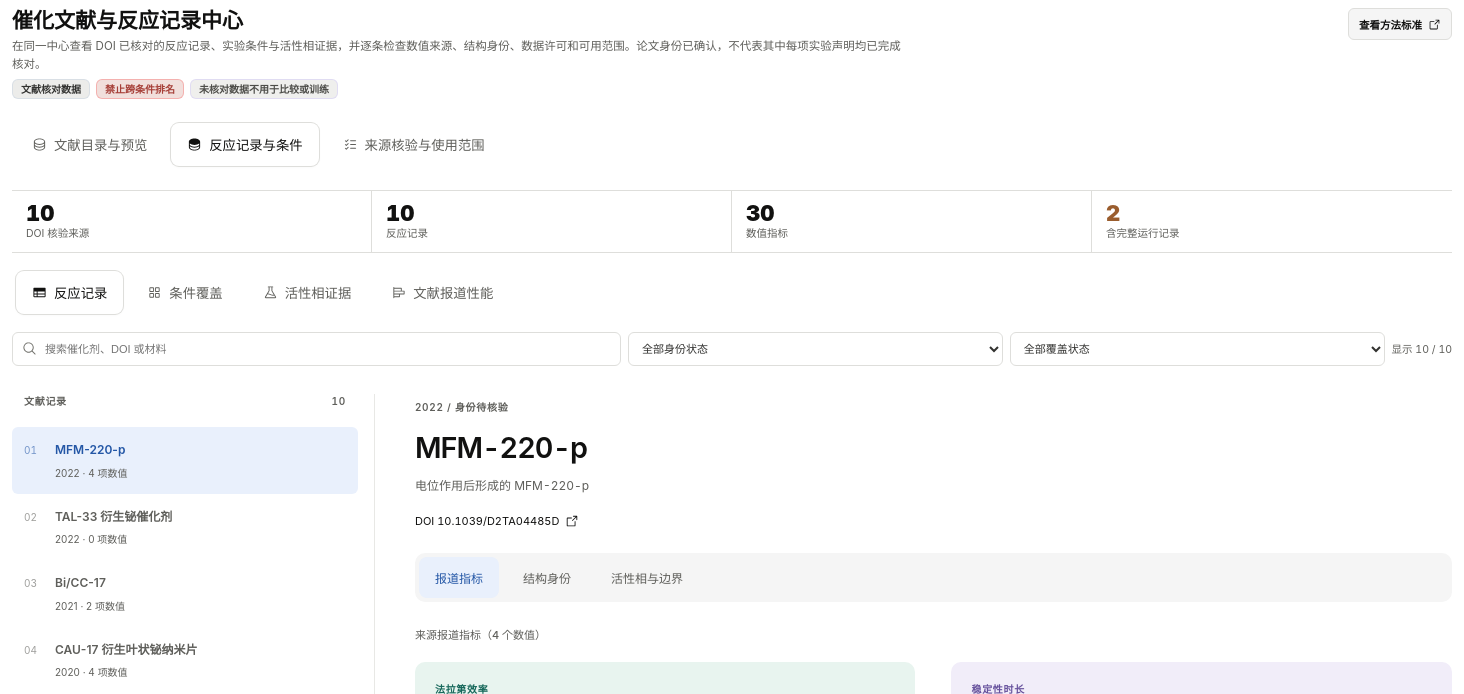
Test: CatalysisLiteratureRecordCenter › switches to evidence admission without creating a second module shell
Click the tab "来源核验与使用范围" at {"x": 414, "y": 144}, box [327,123,501,166]
(page scrolled)
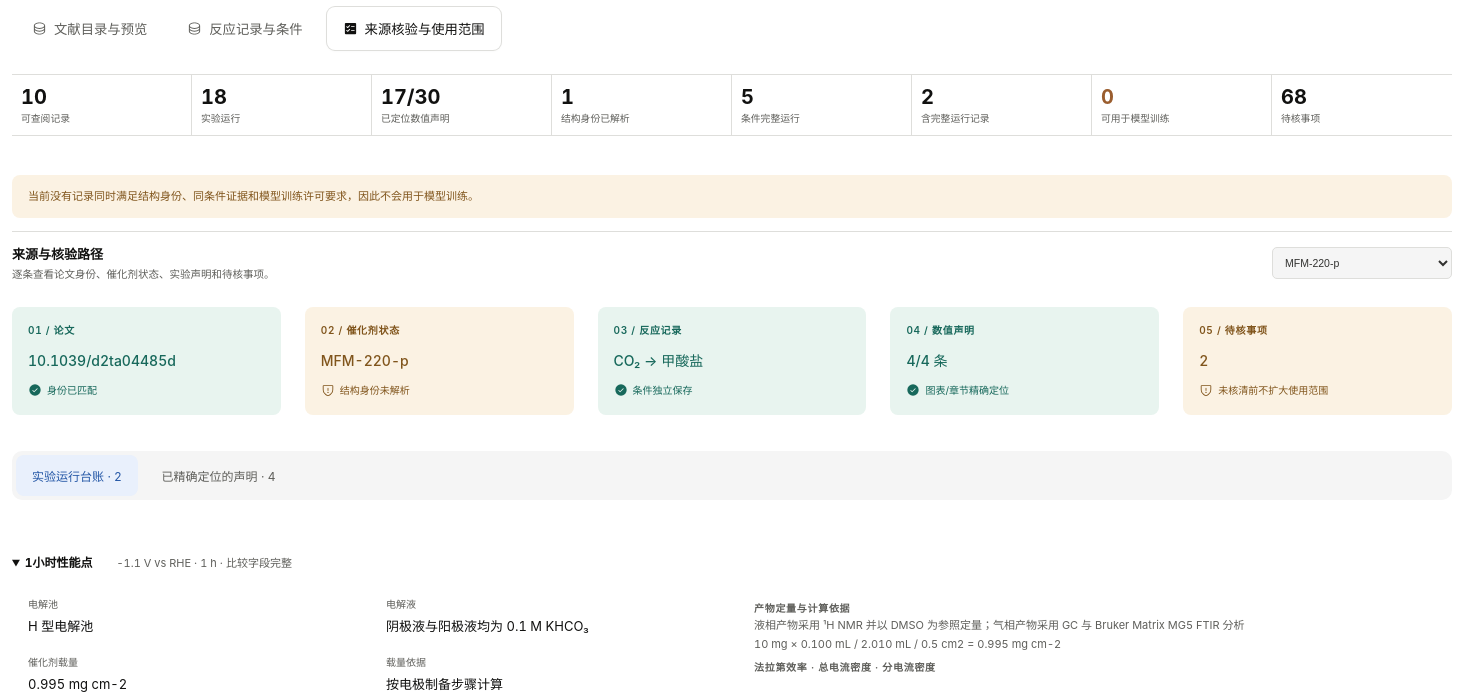
Expected: the element with test id "catalysis-evidence-trace" shows "来源与核验路径", [12,246,103,262]
